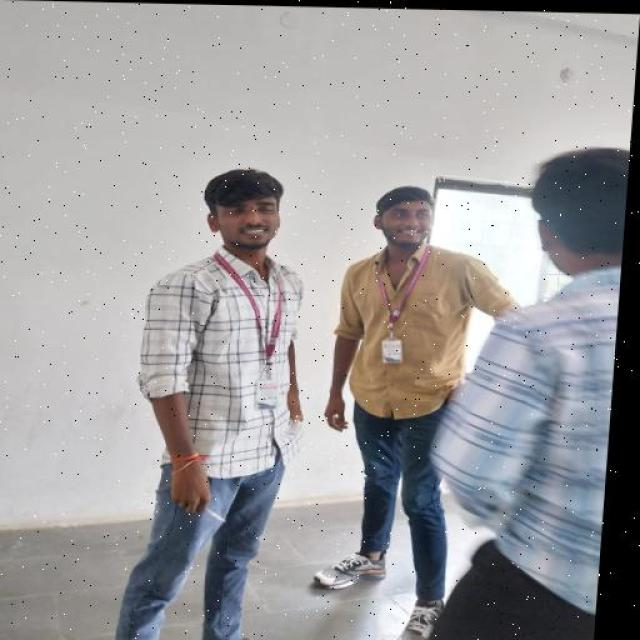id_card: (214, 249, 296, 416), (376, 253, 416, 369)
